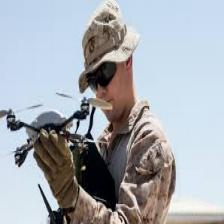drone: (0, 91, 113, 172)
